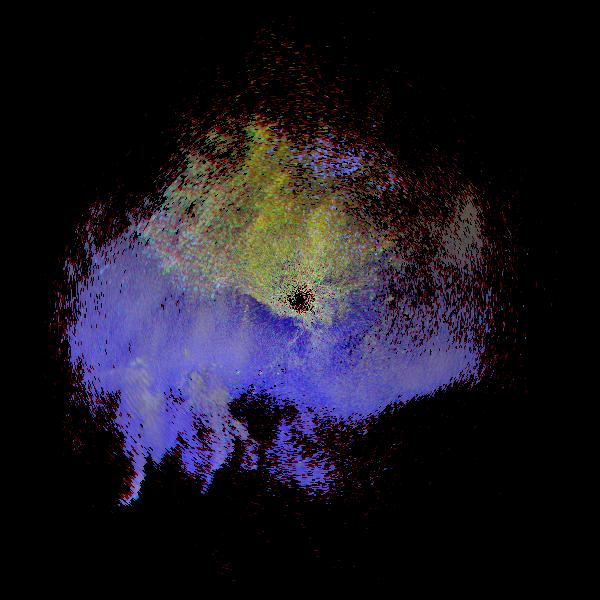roost: (35, 382, 176, 523)
